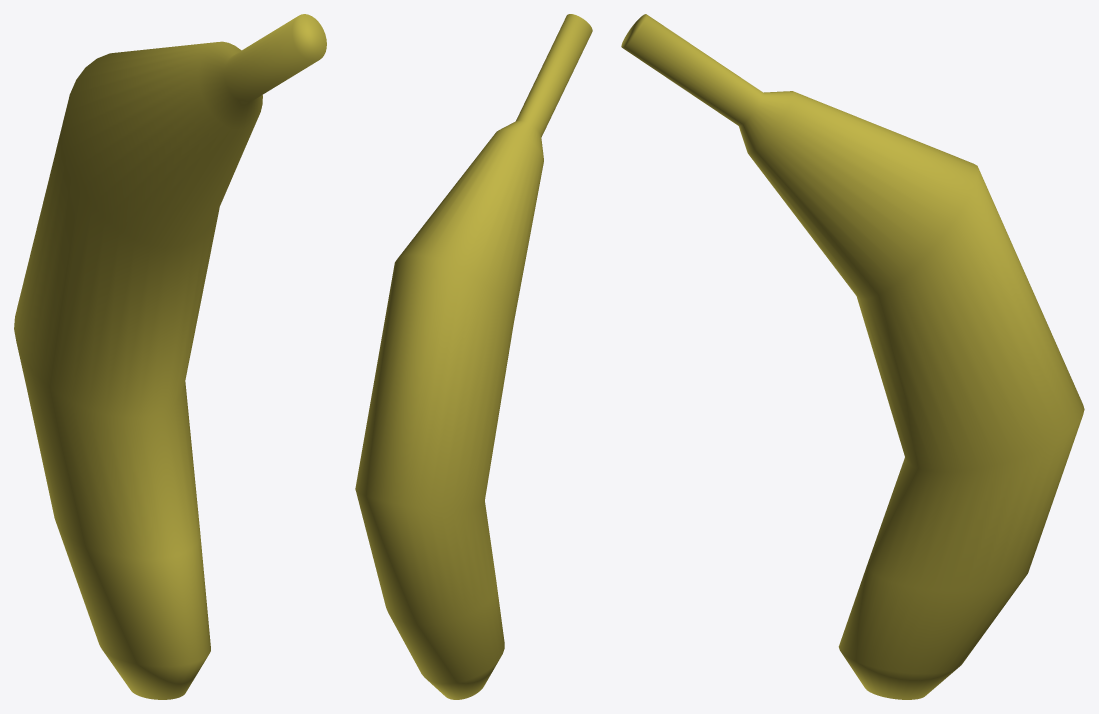
The model's file is banana.fbx.
3 views of the same model, side by side, from view 1: azimuth 30°, elevation 25°; view 2: azimuth 150°, elevation 25°; view 3: azimuth 270°, elevation 25° (orthographic). The views are drawn at different scales.
Visible parts, largest first — view 1: banana.012; view 2: banana.012; view 3: banana.012.
Boxes of the visible parts, x1,y1,x2,y2 form: banana.012: (14, 14, 326, 699); banana.012: (355, 14, 592, 699); banana.012: (621, 14, 1084, 699).
Bounding box in the file's own units: 0.4903 × 2.59 × 1.6.
